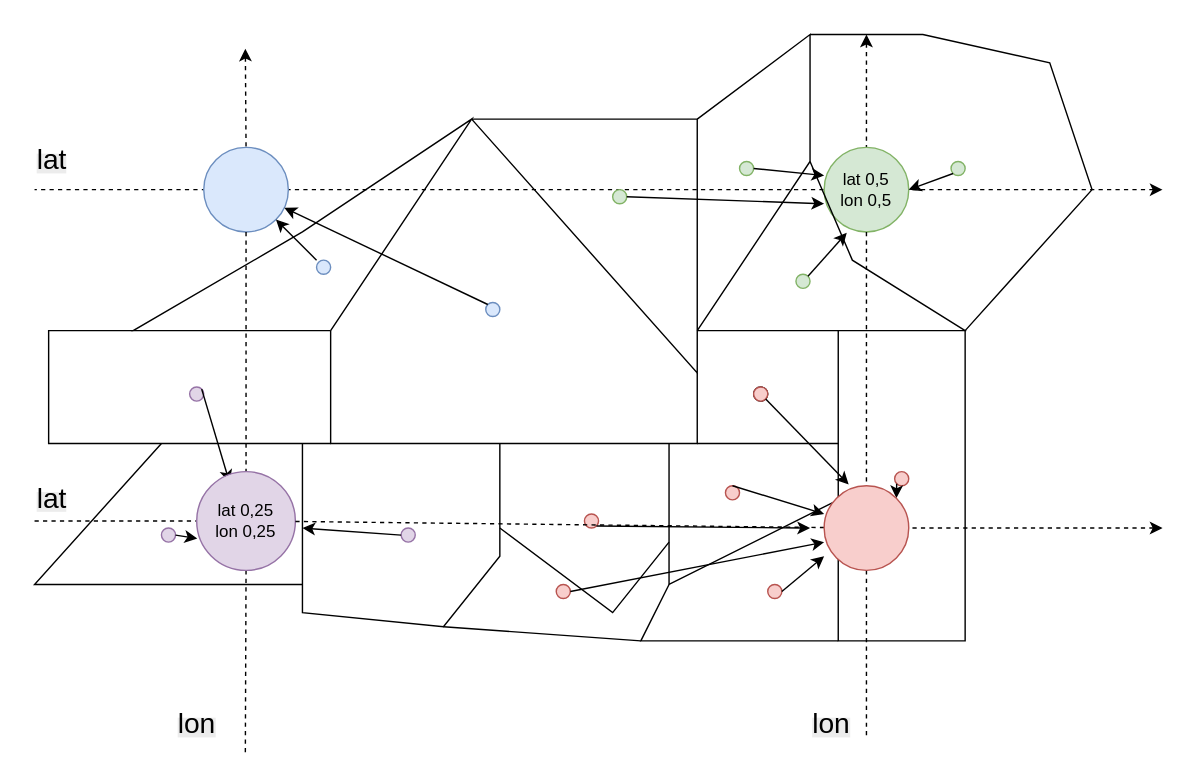
Some shapes in this 1199 by 780 pixel diagram are drawn without their labels. Each missing label, with the centre of its shape:
"lat 0,25 lon 0,5" belongs at (245,189).
"lat 0,5 lon 0,25" belongs at (866,527).
